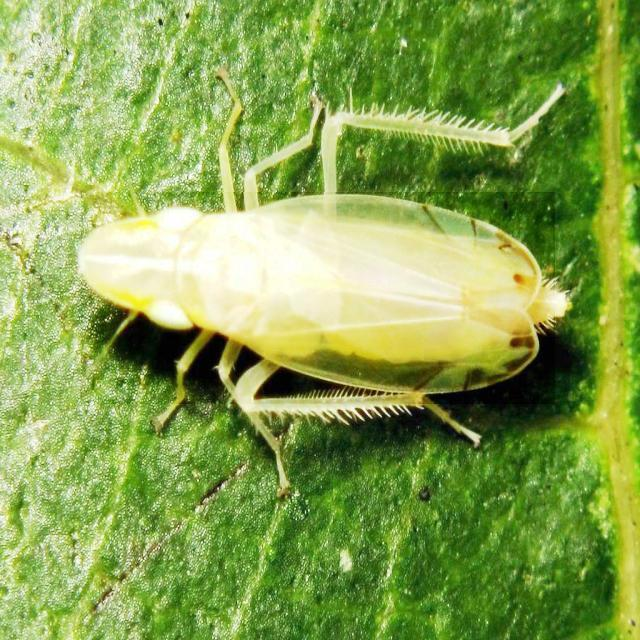green-leafhopper: (82, 192, 556, 404)
